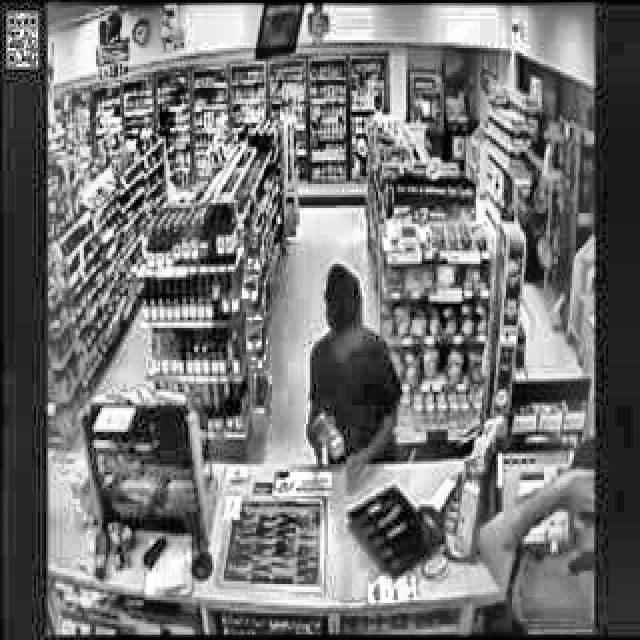robbery: (470, 434, 593, 633), (305, 262, 405, 496)
